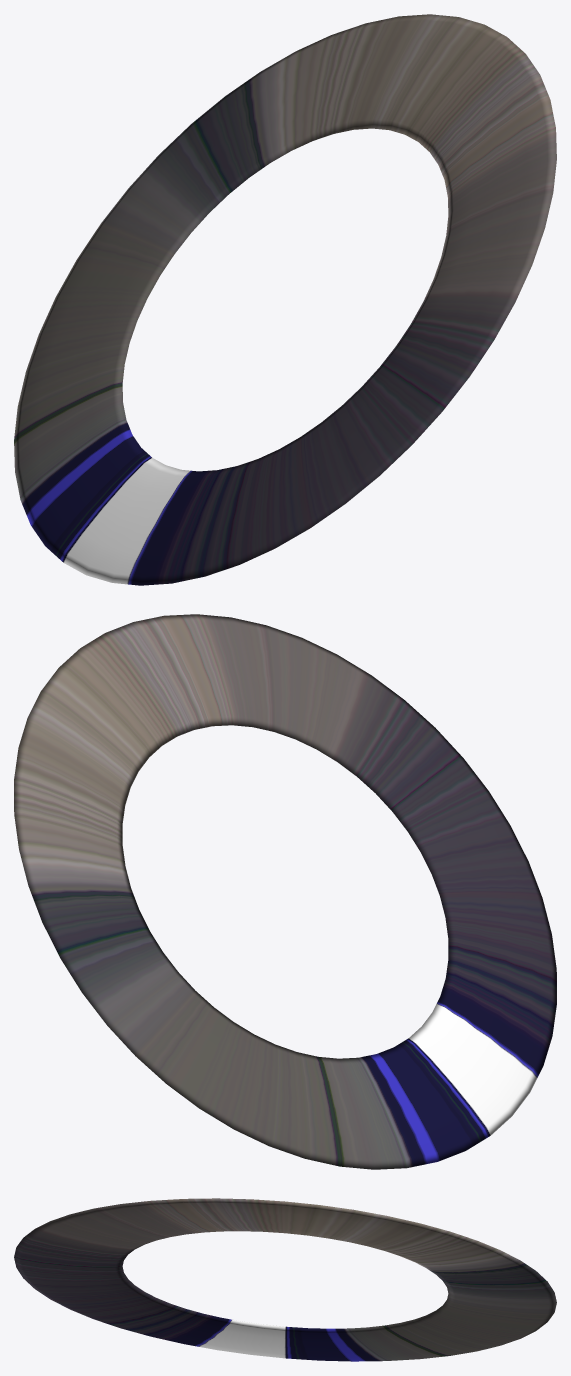
Rendered from saturn_ring.glb.
3 views of the same model, one above another, from view 1: azimuth 30°, elevation 25°; view 2: azimuth 150°, elevation 25°; view 3: azimuth 270°, elevation 25° (orthographic). The views are drawn at different scales.
Parts seen in each view (by area): view 1: Torus.001; view 2: Torus.001; view 3: Torus.001.
Boxes of the visible parts, x1,y1,x2,y2 form: Torus.001: (14,14,556,585); Torus.001: (14,614,556,1169); Torus.001: (14,1198,556,1361).
Bounding box in the file's own units: 4.73 × 4.27 × 6.44.
Materials: 1 (1 with a texture image).
